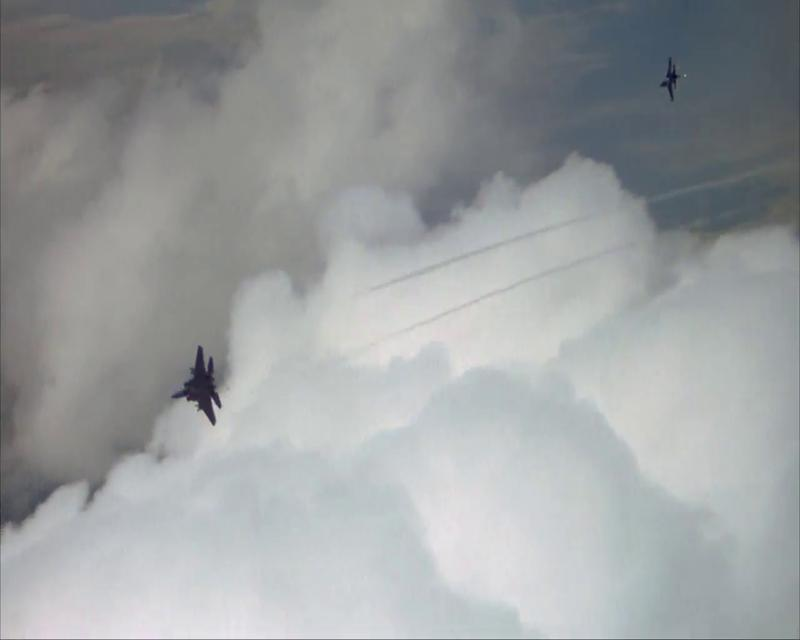UAV: (170, 344, 223, 424), (657, 59, 689, 102)
